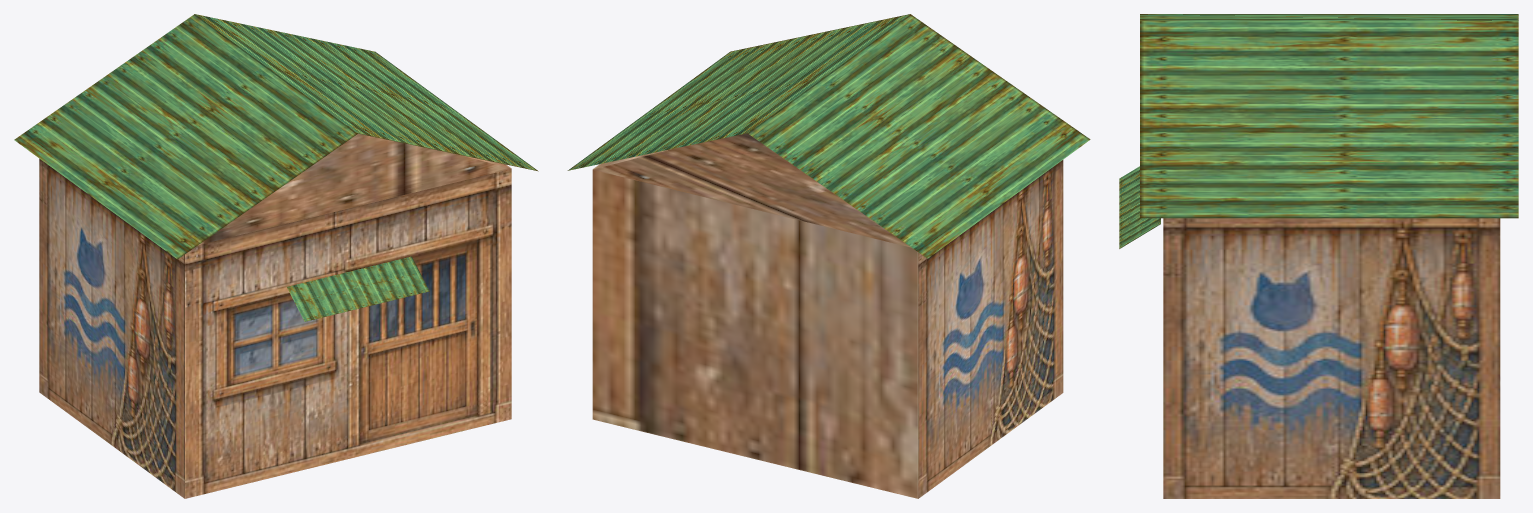
File: nyanisyarud-harbor-hut-far-sage.glb
3 renders of one model, left to right at view 1: azimuth 30°, elevation 25°; view 2: azimuth 150°, elevation 25°; view 3: azimuth 270°, elevation 25°, orthographic. The views are drawn at different scales.
Parts seen in each view (by area): view 1: 02_fishing_hut_Far_sage; view 2: 02_fishing_hut_Far_sage; view 3: 02_fishing_hut_Far_sage.
Boxes of the visible parts, x1,y1,x2,y2 form: 02_fishing_hut_Far_sage: (14,14,538,498); 02_fishing_hut_Far_sage: (567,14,1090,498); 02_fishing_hut_Far_sage: (1119,14,1518,498).
Bounding box in the file's own units: 2.08 × 1.83 × 1.72.
1 material, 1 textured.
